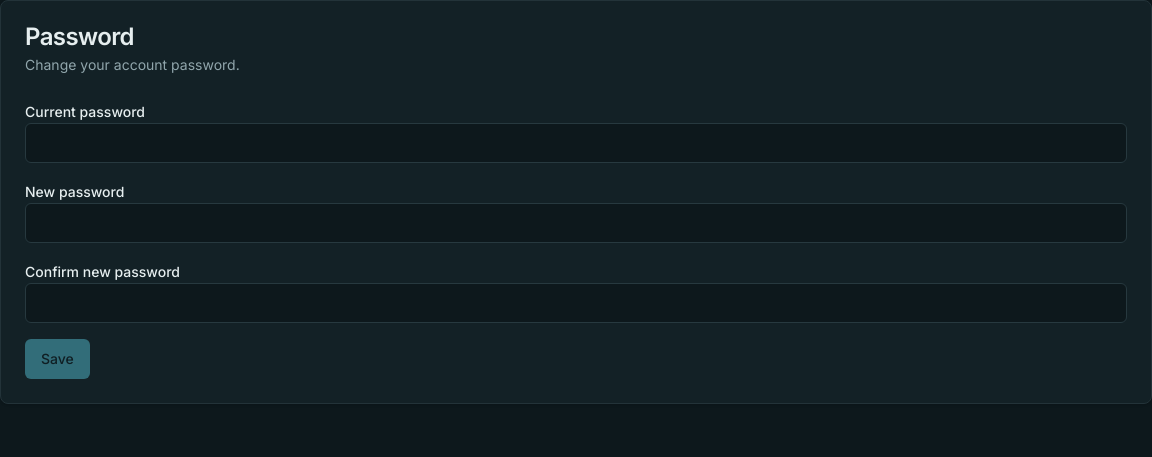
it: PasswordCard › shows the ApiError message when the change fails
Type "OldPassw0rd!!" into the password field labelled "Current password". click: (576, 143)
box: [25,123,1127,163]
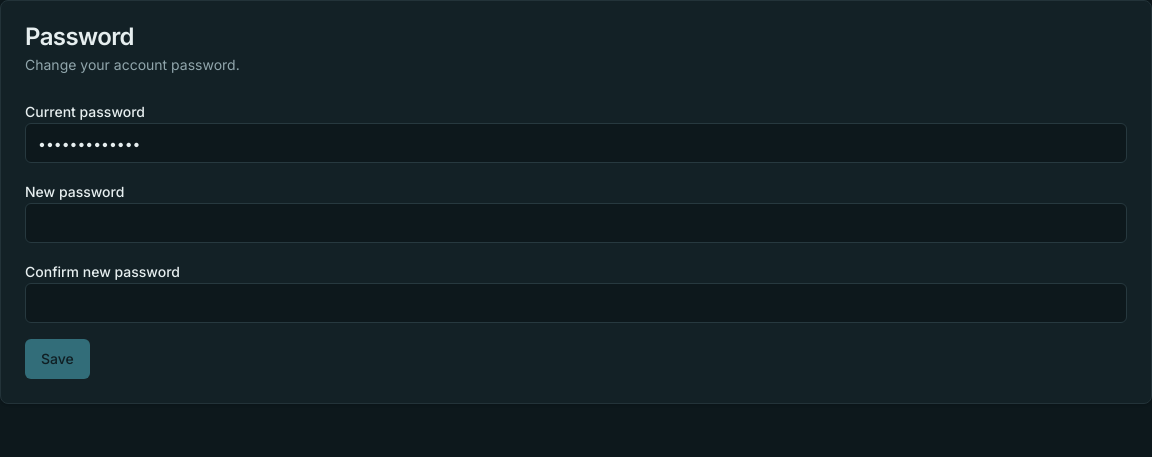
Type "NewPassw0rd!!" into the password field labelled "New password". click: (576, 223)
box: [25,203,1127,243]
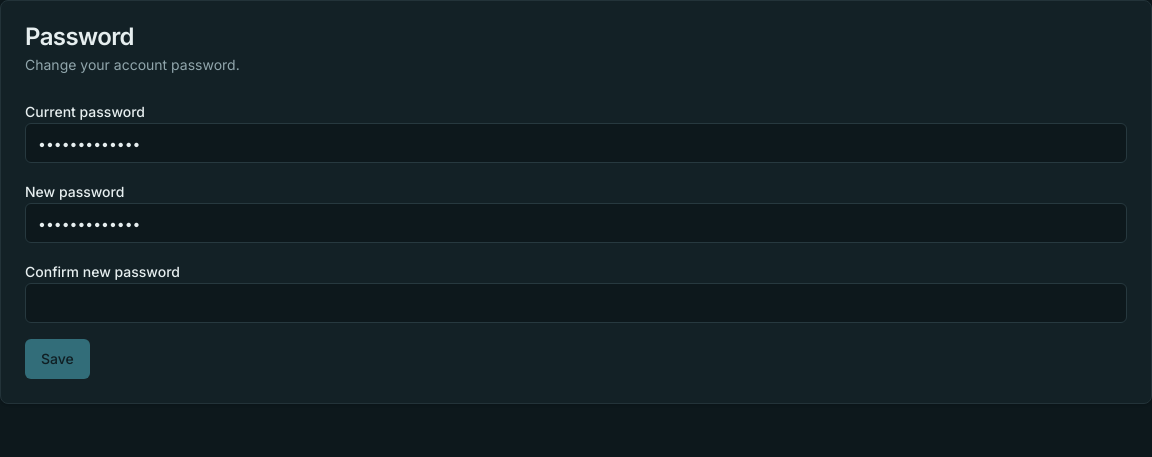
Type "NewPassw0rd!!" into the password field labelled "Confirm new password". click: (576, 303)
box: [25,283,1127,323]
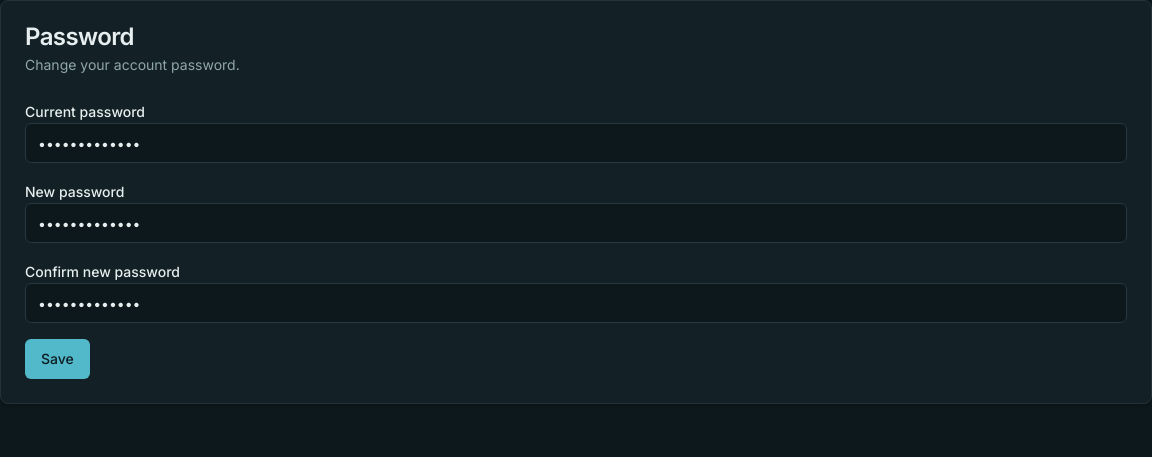
Submit the form named "change password", box [25,99,1127,379]
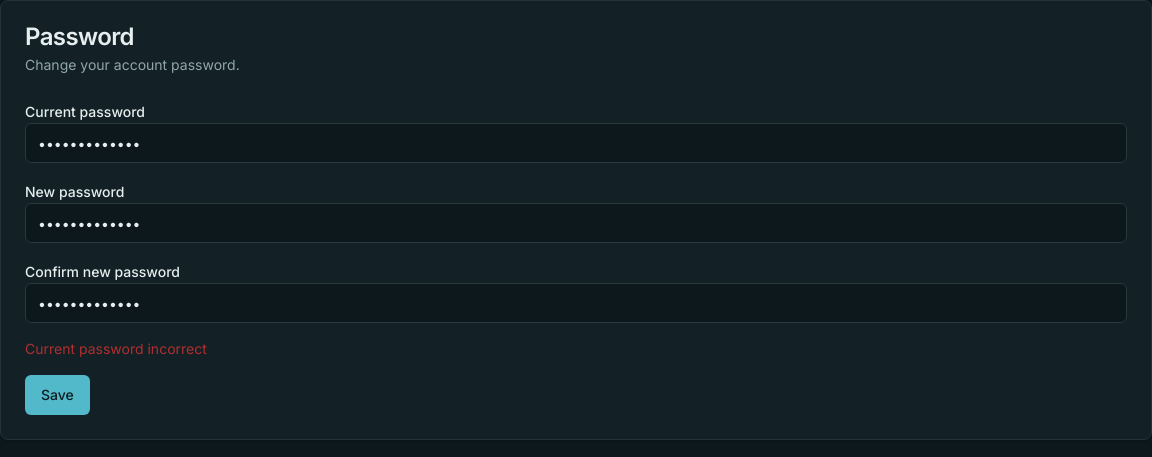
Now the message reads "Current password incorrect", box [25,340,207,357]
